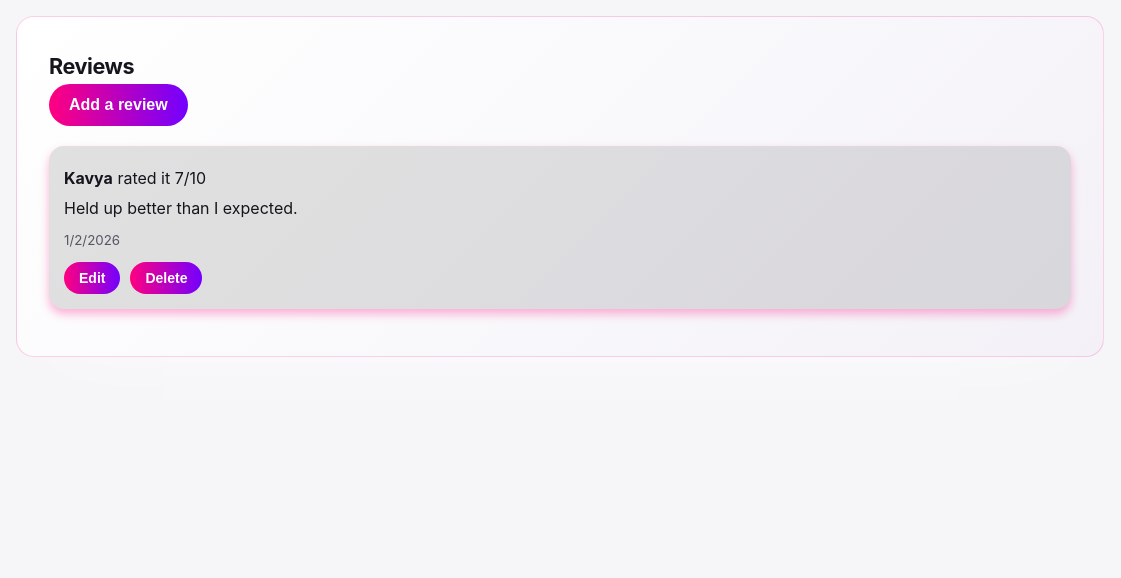
editing and deleting › leaves the review untouched when an edit is cancelled
The width and height of the screenshot is (1121, 578).
Click the button "Edit".
click(92, 278)  # box top-left (64, 262), bottom-right (120, 294)
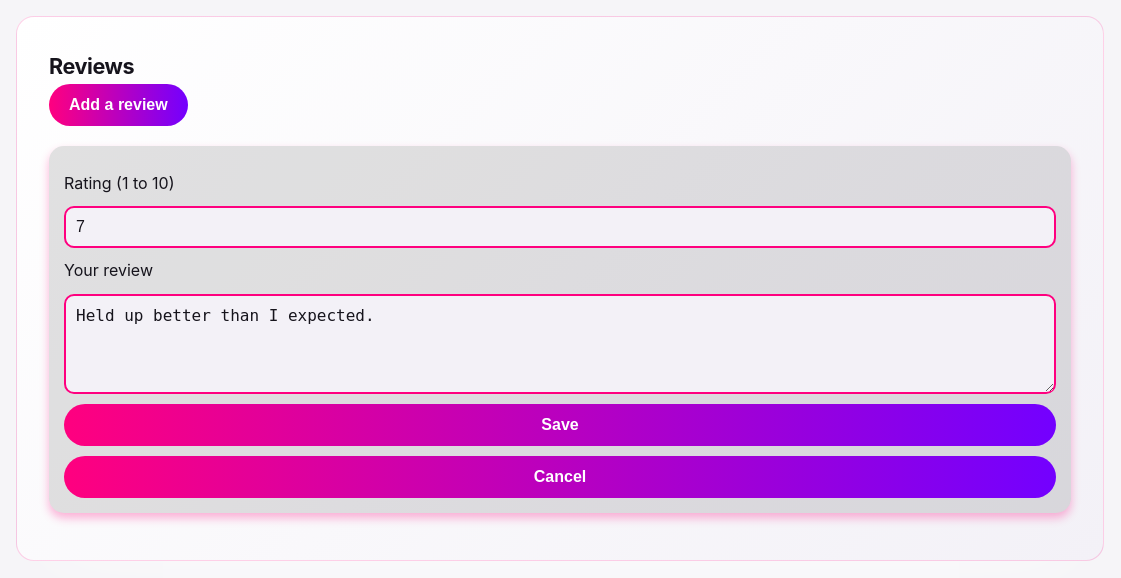
Click the button "Cancel".
click(560, 477)  # box top-left (64, 456), bottom-right (1056, 498)
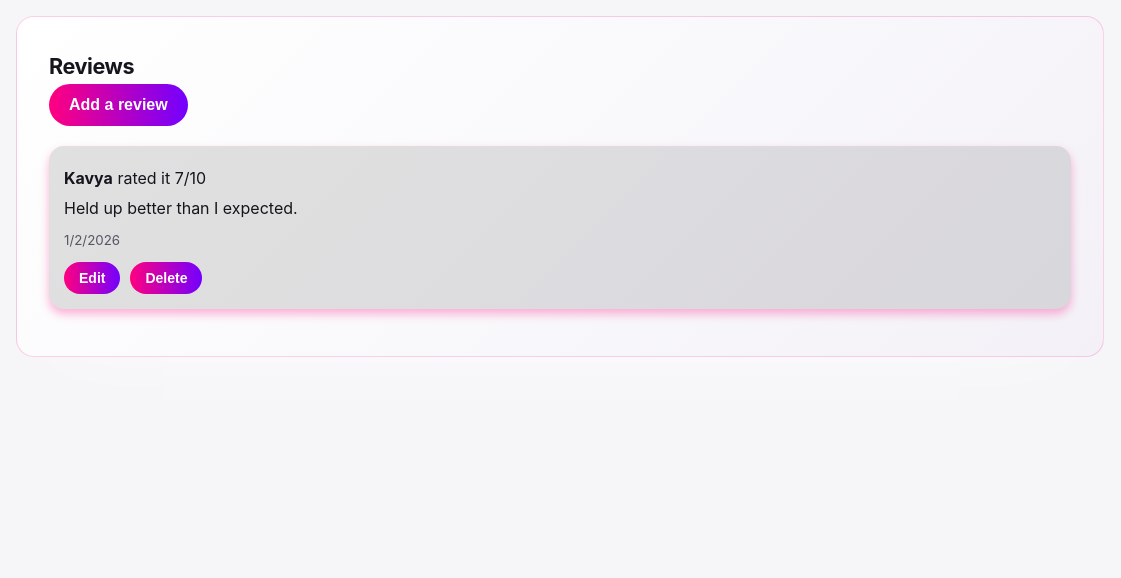
expect the text "Held up better than I expected." is shown: met, box top-left (64, 198), bottom-right (298, 218)
